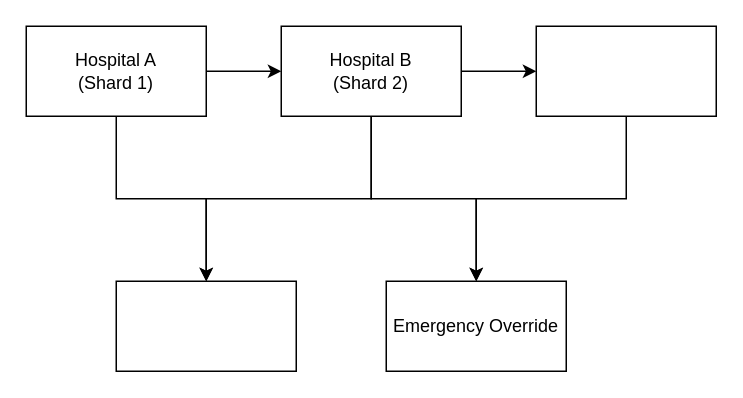
Image size: 743x398. Some labels were removed from this diagram. The centre of each missing label's shape, as x and y in pixels:
"Consent Server" goes at point (205, 325).
"Hospital C (Shard 3)" goes at point (625, 70).
